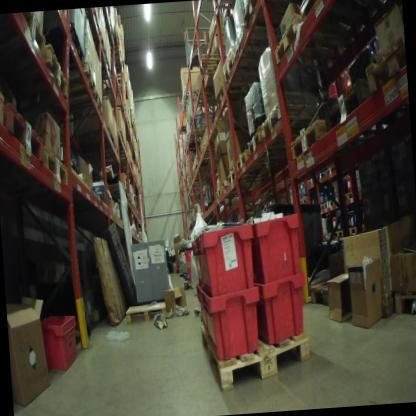pallet: (199, 307, 318, 394), (266, 3, 371, 77), (319, 71, 385, 147), (1, 36, 71, 106), (2, 90, 50, 169), (194, 46, 287, 86), (363, 35, 407, 106), (257, 101, 315, 146), (0, 13, 50, 61), (287, 120, 338, 165), (230, 34, 293, 70), (308, 262, 353, 312), (236, 0, 296, 37), (246, 126, 308, 160), (125, 297, 172, 337), (235, 145, 291, 174), (299, 0, 351, 29), (61, 90, 105, 121), (210, 84, 264, 109), (225, 166, 283, 189), (44, 143, 71, 191), (65, 63, 97, 101), (393, 285, 416, 323), (0, 82, 15, 137), (218, 175, 261, 191), (190, 161, 219, 182), (183, 129, 208, 150), (199, 139, 223, 160), (211, 187, 231, 201), (344, 188, 360, 202), (324, 165, 339, 178), (182, 278, 197, 291), (348, 224, 364, 236), (327, 197, 341, 209), (316, 169, 327, 184), (319, 199, 330, 211), (331, 230, 345, 239), (300, 194, 311, 205), (307, 177, 317, 189), (178, 269, 185, 280)
small_load_carrier: (247, 266, 314, 347), (194, 219, 259, 302), (201, 275, 266, 354), (248, 213, 309, 287), (35, 308, 85, 383), (190, 282, 209, 341), (187, 232, 204, 285)
stillage: (184, 80, 218, 125), (181, 21, 213, 57)
